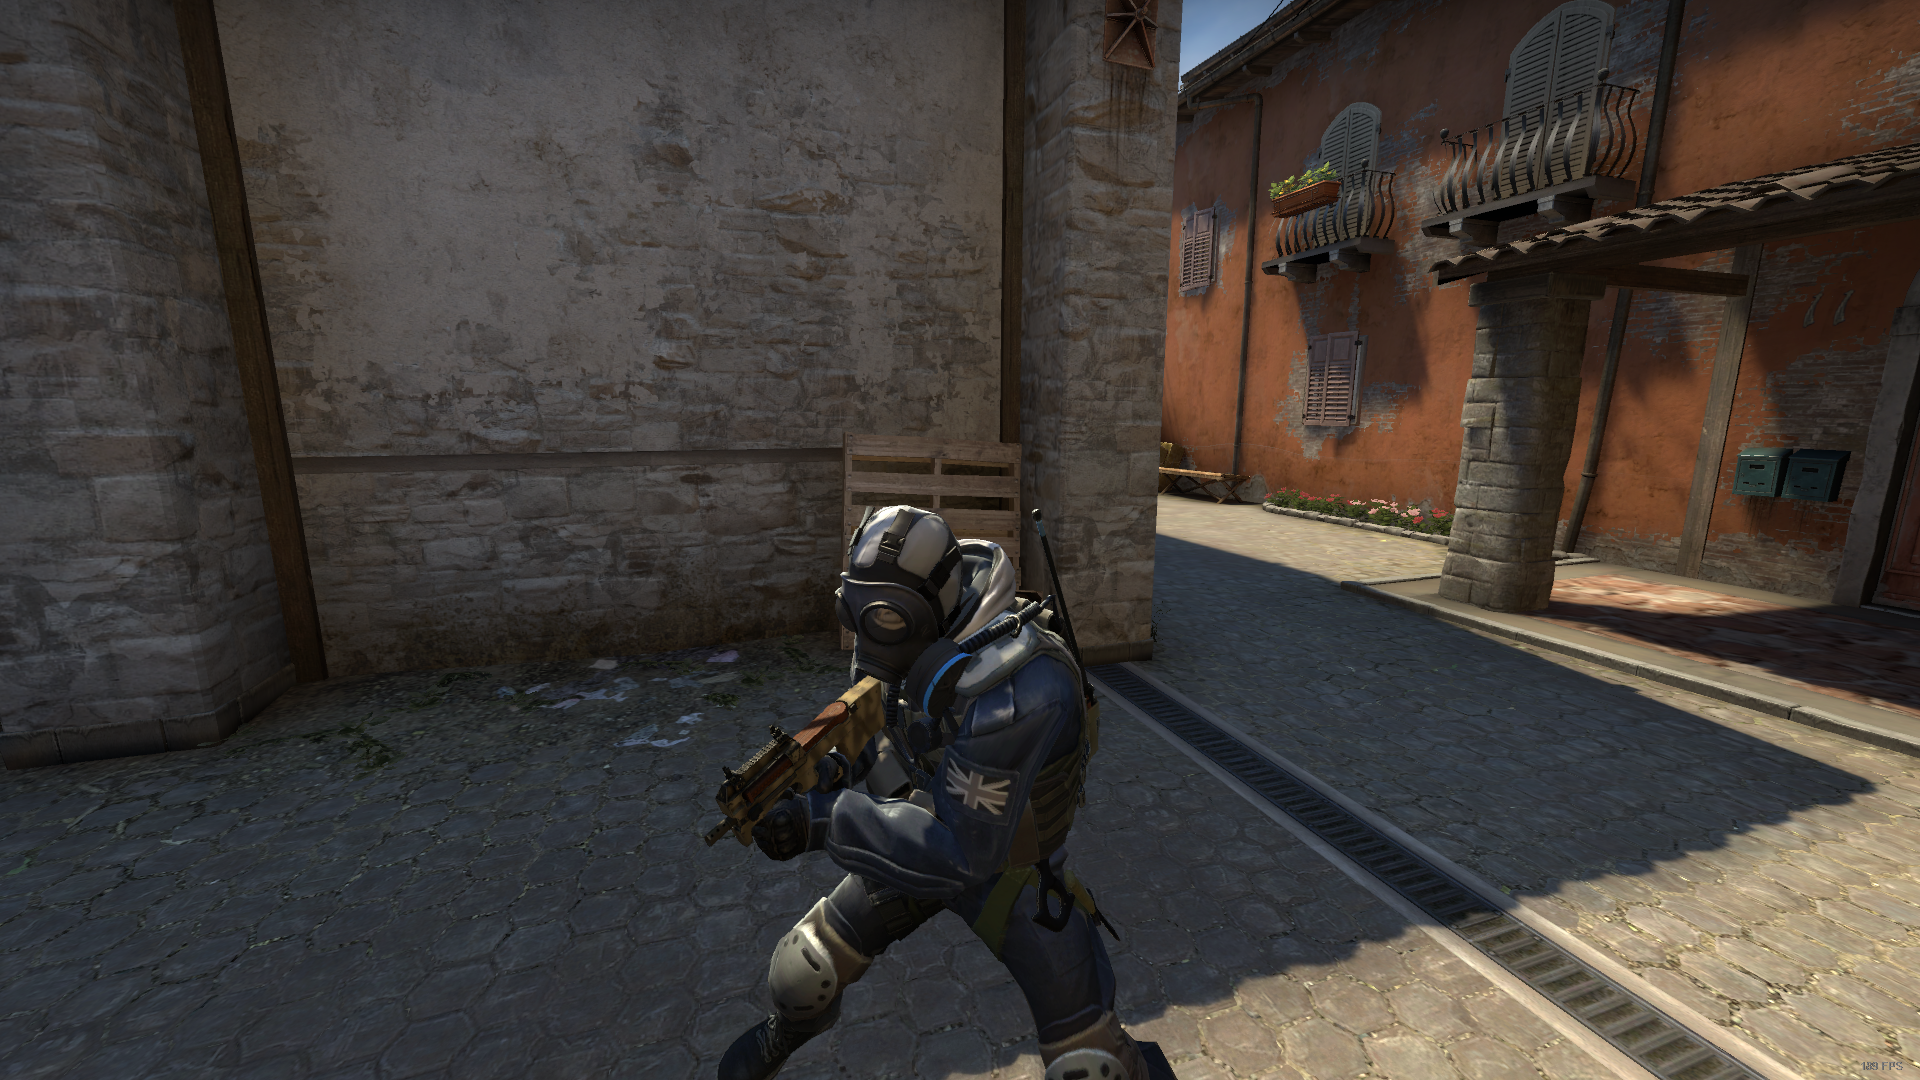ct: (717, 504, 1143, 1080)
